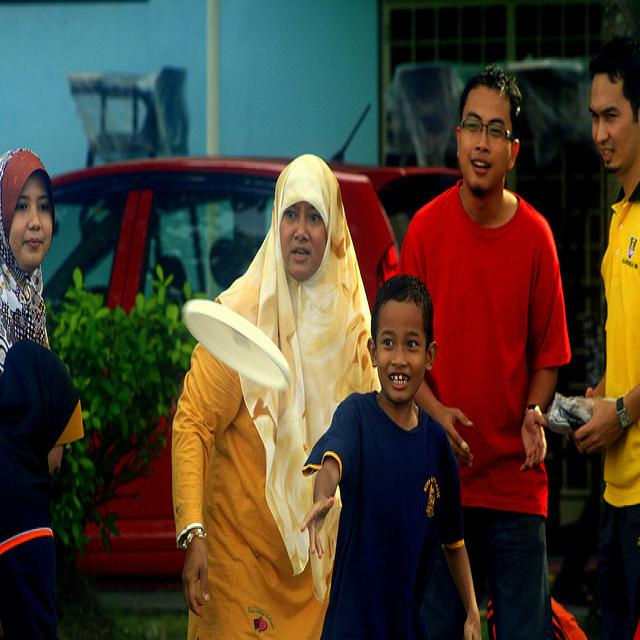Vehicle: (40, 160, 400, 586), (328, 100, 461, 249), (512, 59, 591, 140)
